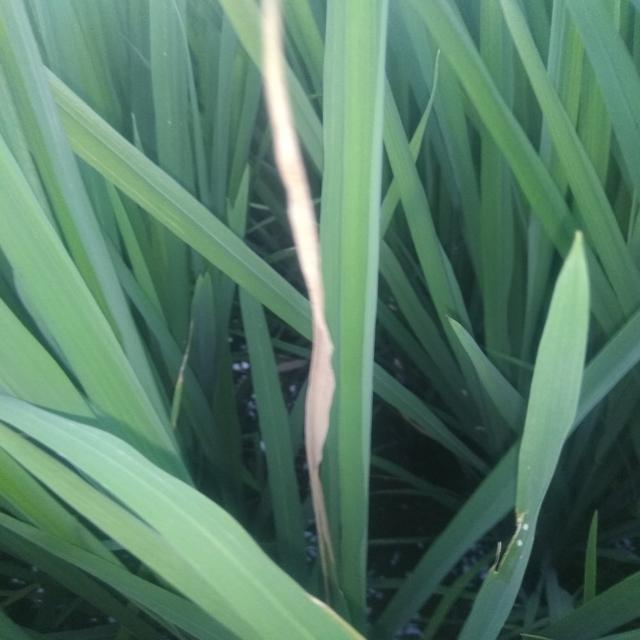Brown spot: (252, 0, 366, 621)
brown plant hopper: (478, 499, 536, 583)
